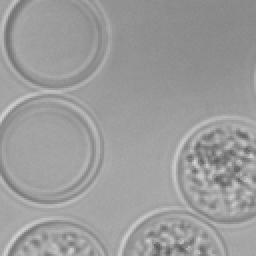picoshell: (0, 92, 102, 206), (0, 0, 110, 90), (172, 116, 256, 226), (118, 205, 230, 256), (0, 216, 107, 256)
